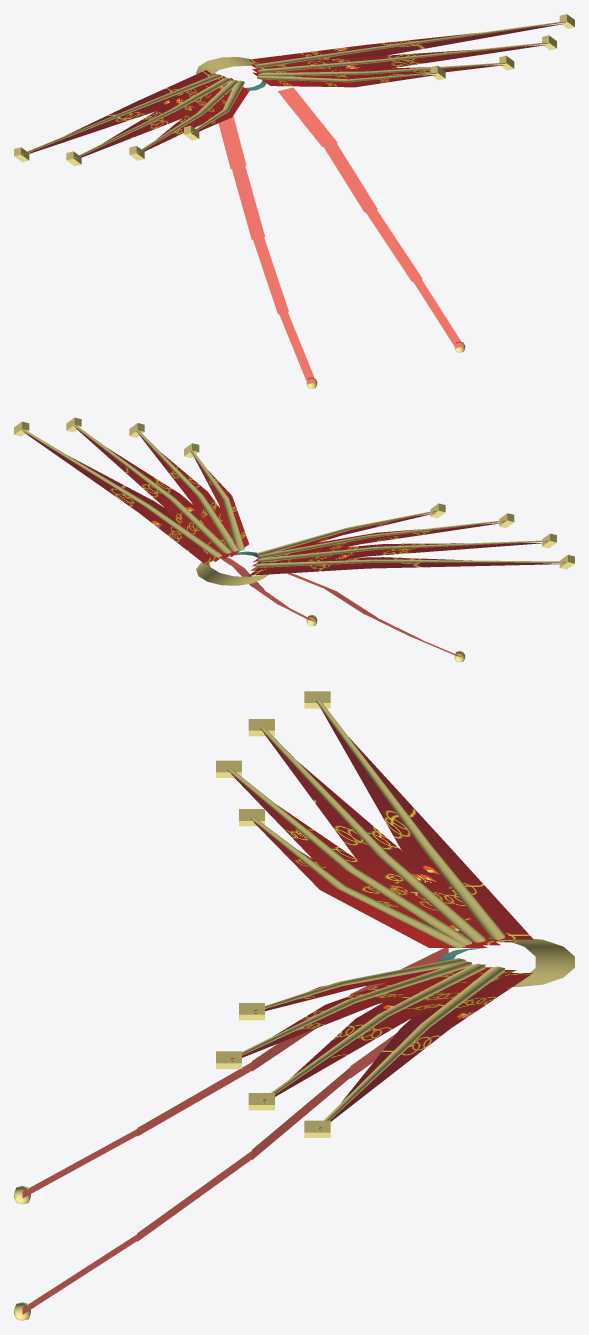
Rendered from glider_wings.glb.
3 views of the same model, one above another, from view 1: azimuth 30°, elevation 25°; view 2: azimuth 150°, elevation 25°; view 3: azimuth 270°, elevation 25° (orthographic). The views are drawn at different scales.
Visible parts, largest first — view 1: GliderWingsRoot; view 2: GliderWingsRoot; view 3: GliderWingsRoot.
Boxes of the visible parts, x1,y1,x2,y2 form: GliderWingsRoot: (14,14,574,388); GliderWingsRoot: (14,417,574,662); GliderWingsRoot: (14,691,574,1320).
Size of the model in its own units: 3.14 by 1.19 by 1.71.
4 materials, 1 textured.
